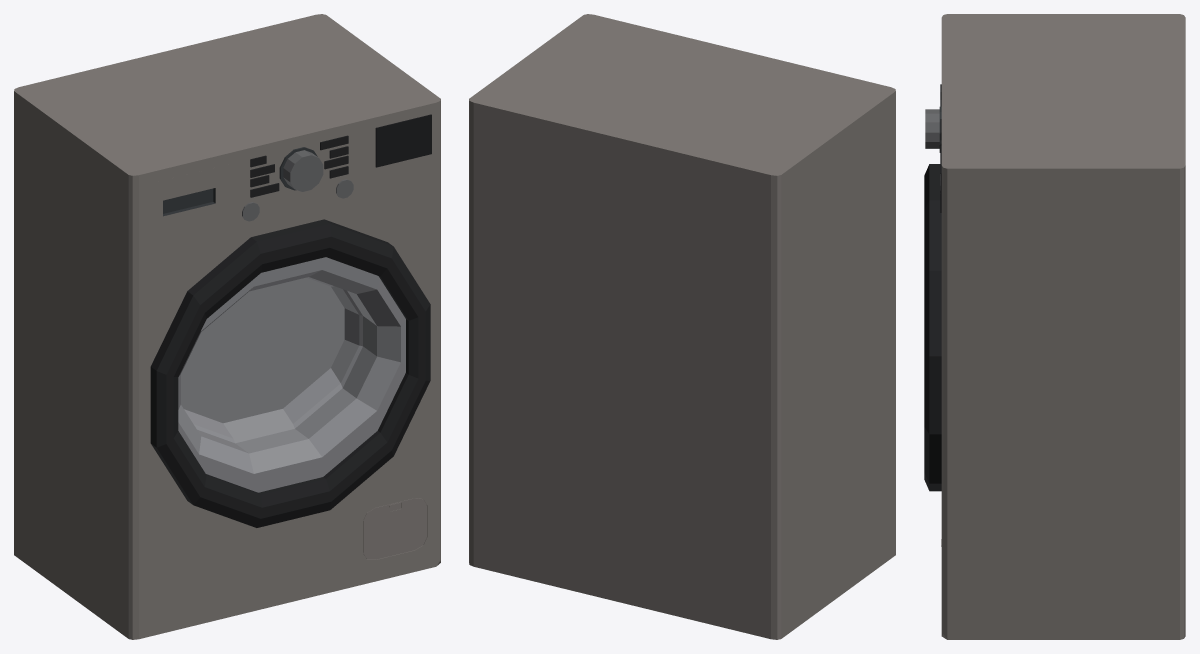
Rendered from washingmachine_01_A.gltf.
3 renders of one model, left to right at view 1: azimuth 30°, elevation 25°; view 2: azimuth 150°, elevation 25°; view 3: azimuth 270°, elevation 25°, orthographic.
Parts seen in each view (by area): view 1: washingmachine_01_A, Doorforwashingmachine_01_A, shelfforwashingmachine_01_A, hatchforwashingmachine_01_A, Switchforwashingmachine_03_A; view 2: washingmachine_01_A; view 3: washingmachine_01_A, Doorforwashingmachine_01_A, Switchforwashingmachine_03_A.
Part boxes in pixels (<box>): washingmachine_01_A: <box>14,14,440,639</box>; Doorforwashingmachine_01_A: <box>150,219,430,527</box>; shelfforwashingmachine_01_A: <box>146,163,232,240</box>; hatchforwashingmachine_01_A: <box>363,498,426,559</box>; Switchforwashingmachine_03_A: <box>283,150,323,191</box>; washingmachine_01_A: <box>469,14,895,639</box>; washingmachine_01_A: <box>939,14,1185,639</box>; Doorforwashingmachine_01_A: <box>924,164,941,491</box>; Switchforwashingmachine_03_A: <box>925,109,939,148</box>.
Bounding box in the file's own units: 0.6 × 0.8522 × 0.4282.
Materials: 1 (1 with a texture image).
